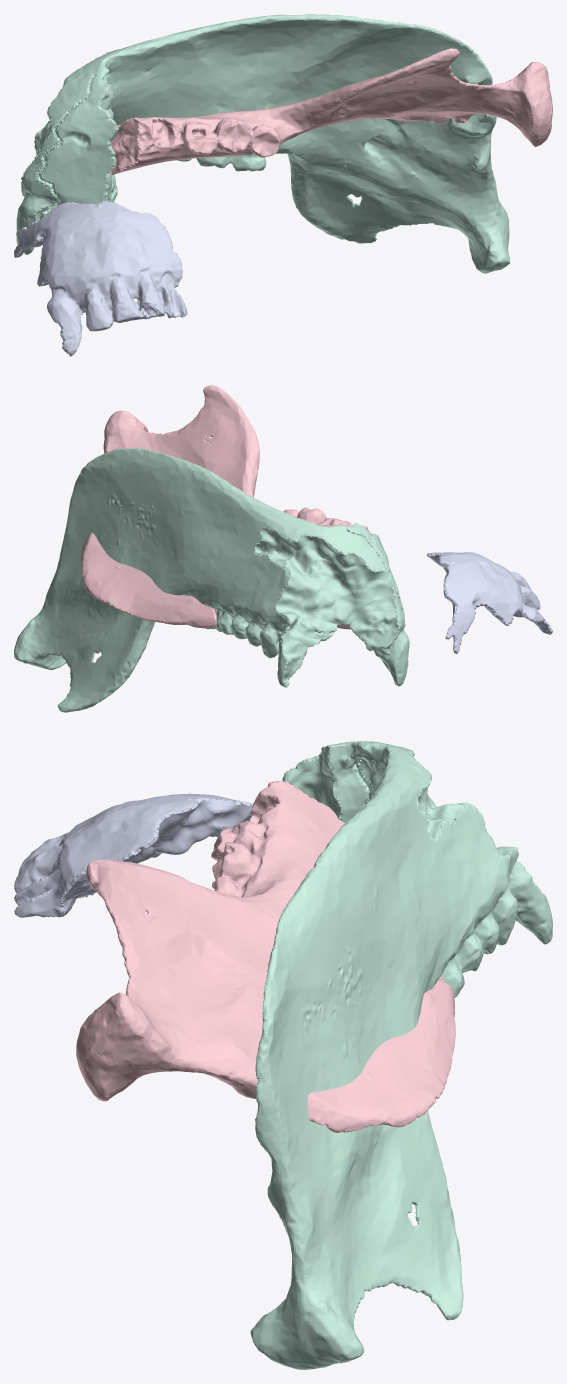
Rendered from 73544_colored.glb.
The picture shows the model from 3 angles, top to bottom: view 1: azimuth 30°, elevation 25°; view 2: azimuth 150°, elevation 25°; view 3: azimuth 270°, elevation 25°; orthographic projection. The views are drawn at different scales.
Visible parts, largest first — view 1: world; view 2: world; view 3: world.
Part boxes in pixels (x1,y1,x2,y2): world: (14, 14, 552, 356); world: (14, 385, 552, 712); world: (14, 741, 552, 1369).
Bounding box in the file's own units: 1.95 × 1.05 × 1.21.
